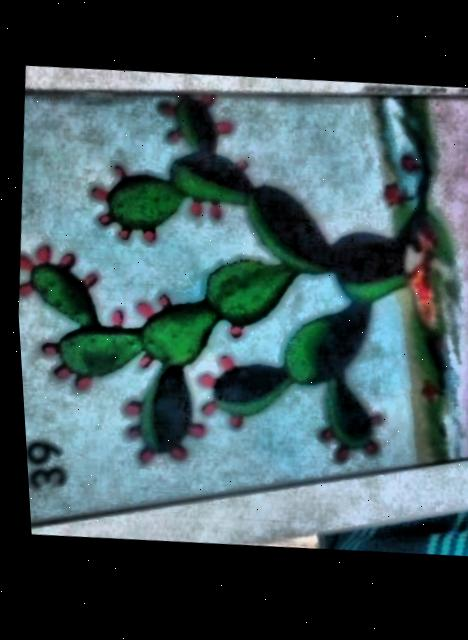El Nopal: (14, 92, 468, 522)
